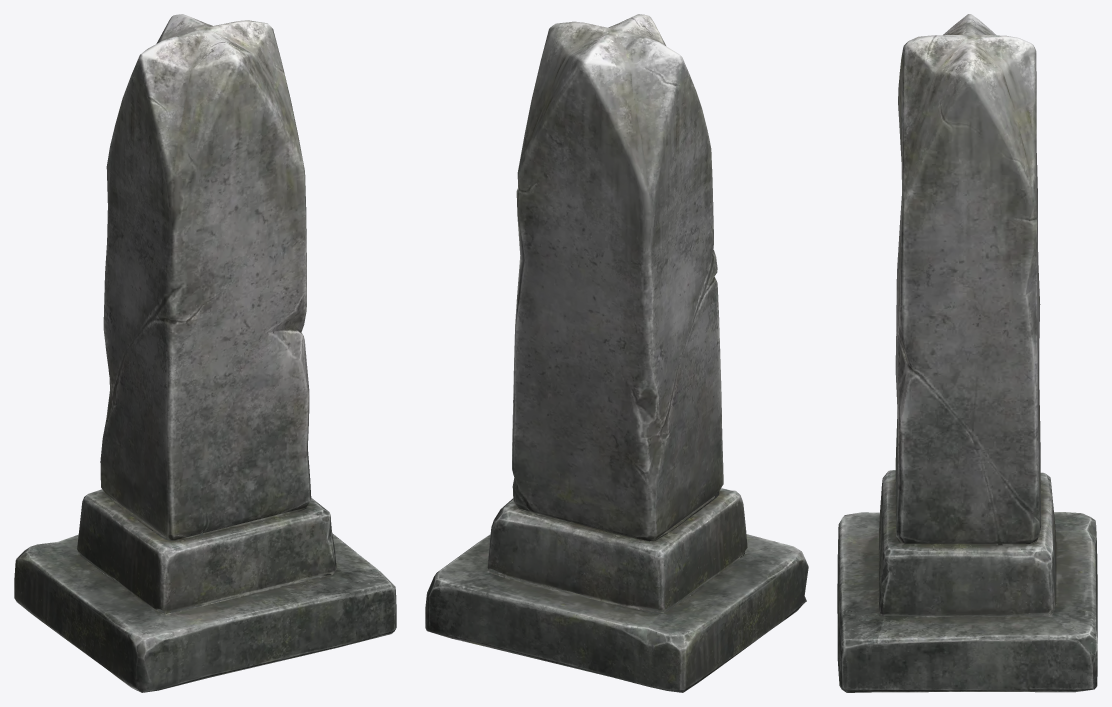
3 views of the same model, side by side, from view 1: azimuth 30°, elevation 25°; view 2: azimuth 150°, elevation 25°; view 3: azimuth 270°, elevation 25° (orthographic).
Visible parts, largest first — view 1: SM_Tombstone_01_LOD0; view 2: SM_Tombstone_01_LOD0; view 3: SM_Tombstone_01_LOD0.
Boxes of the visible parts, left/top/right/bottom form: SM_Tombstone_01_LOD0: left=14, top=14, right=396, bottom=692; SM_Tombstone_01_LOD0: left=425, top=14, right=808, bottom=692; SM_Tombstone_01_LOD0: left=837, top=14, right=1097, bottom=692.
Size of the model in its own units: 1.02 by 2.19 by 0.8712.
1 material, 1 textured.
